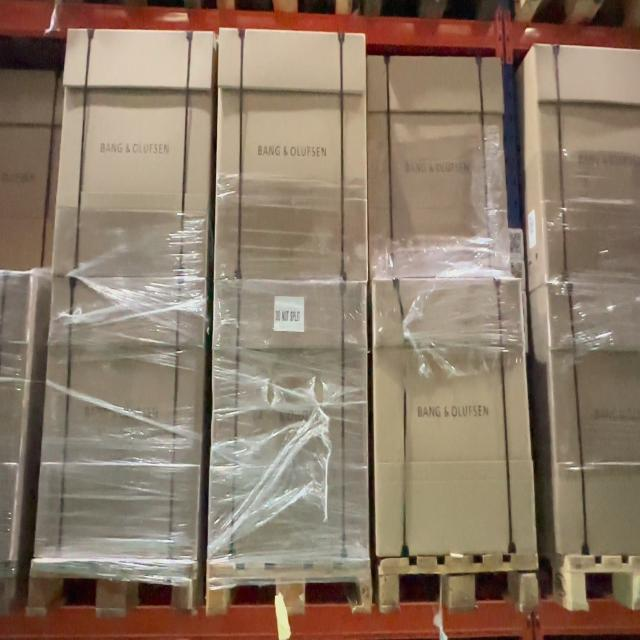box: (34, 275, 205, 556), (210, 283, 365, 555), (376, 288, 536, 550), (219, 31, 366, 280), (56, 33, 208, 273), (368, 58, 499, 273), (539, 50, 640, 269)
